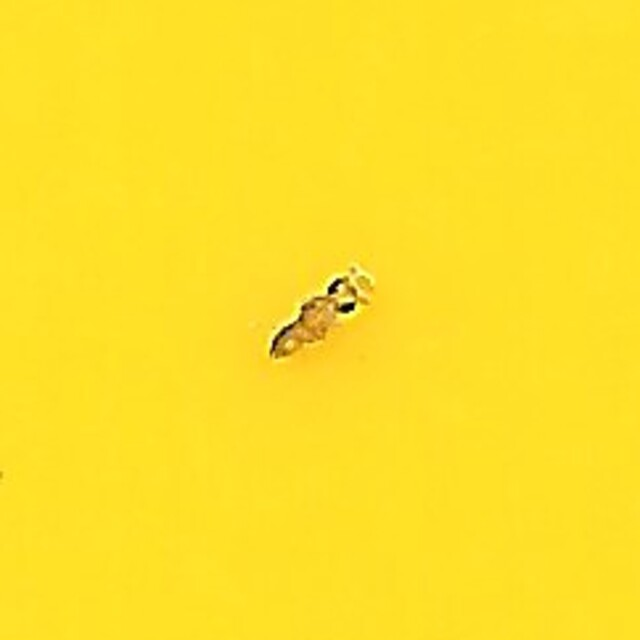Hymenoptera: (264, 268, 376, 372)
